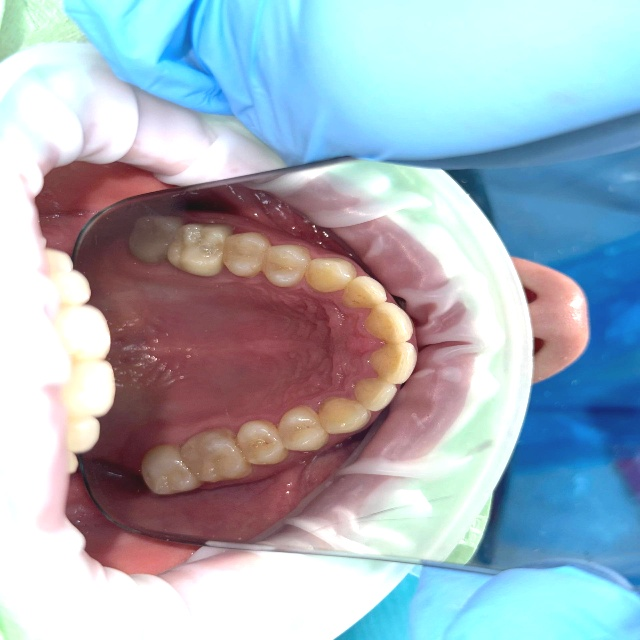clean_tooth: (48, 250, 112, 470), (382, 302, 415, 383)
plaque: (64, 0, 639, 639)
